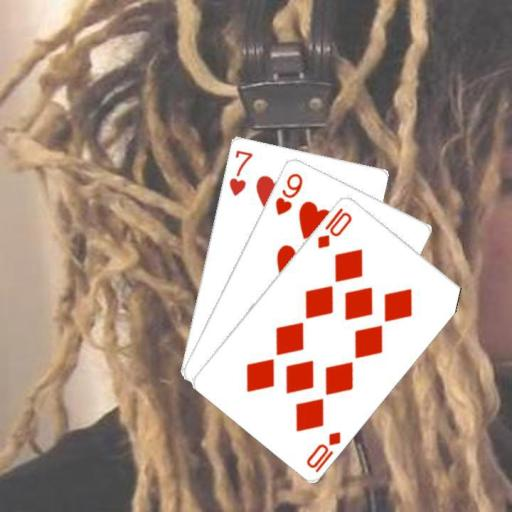10D: (303, 428, 343, 475), (314, 204, 354, 250)
7H: (225, 147, 254, 198)
9H: (272, 169, 304, 216)
